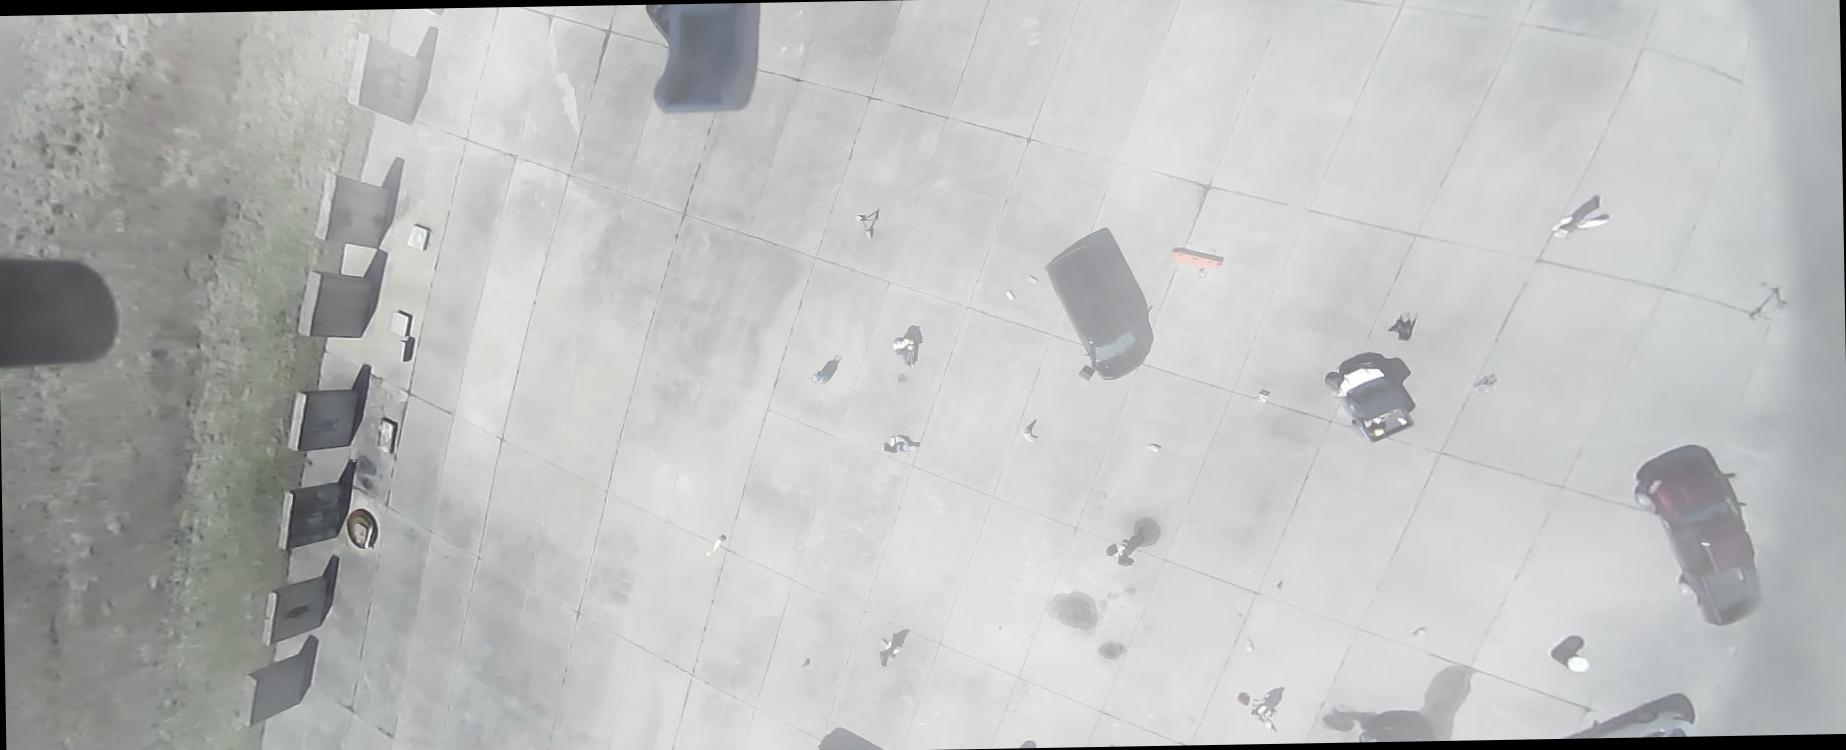vehicle: (1634, 457, 1766, 626), (1044, 241, 1149, 381), (1324, 359, 1416, 443), (1595, 706, 1699, 737), (1360, 723, 1432, 742)
